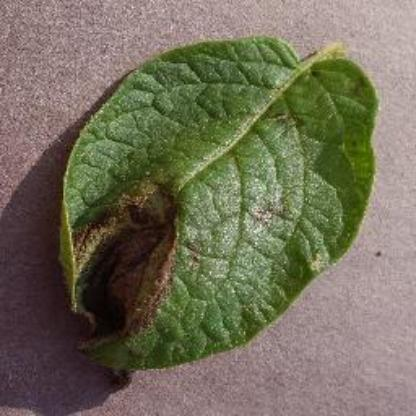Late-Blight: (60, 30, 386, 386)
